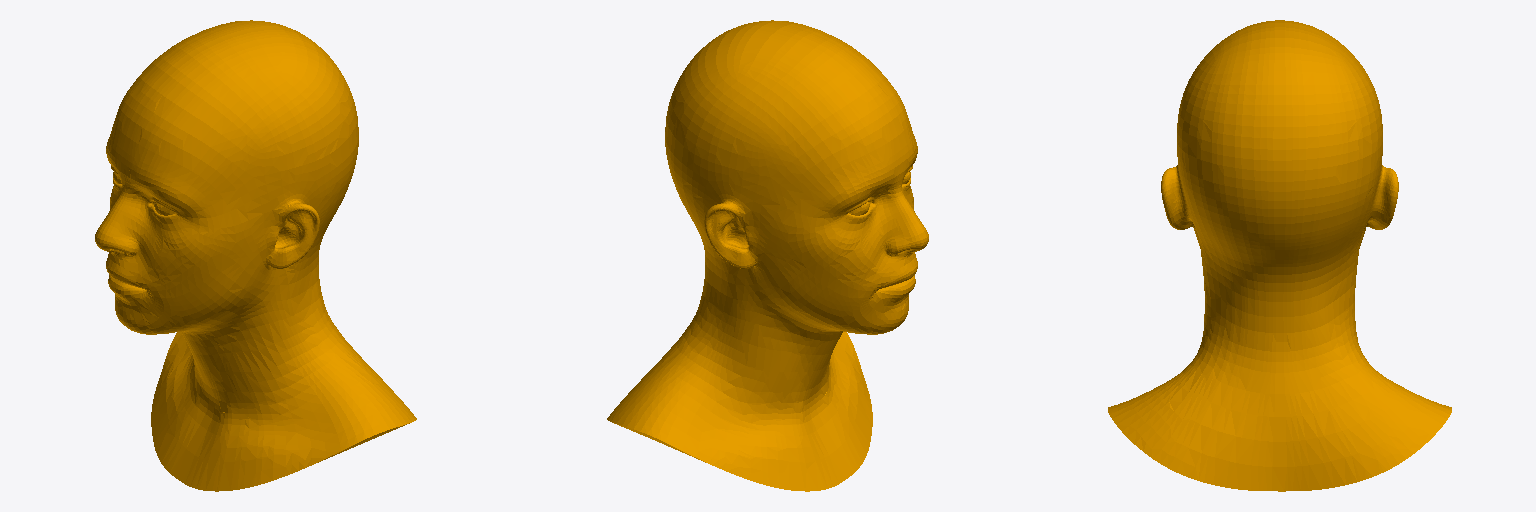
robot.urdf — lefteye:
<?xml version="1.0"?>
<robot name="lefteye">
  <link name="lefteye">
    <visual>
      <origin xyz="0.05 0.0 0.0" rpy= "0.0 0.0 3.141592653589793"/>
      <geometry>
        <mesh filename="lefteye.obj" scale="1 1 1"/>
      </geometry>
    </visual>
    <collision>
      <origin xyz="0.05 0.0 0.0" rpy= "0.0 0.0 3.141592653589793"/>
      <geometry>
        <mesh filename="lefteye.obj" scale="1 1 1"/>
      </geometry>
    </collision>
    <inertial>
      <mass value="0.0"/>
      <inertia ixx="0.0001" ixy="0.0" ixz="0.0" iyy="0.0001" iyz="0.0" izz="0.0001"/>
    </inertial>
  </link>
</robot>

--- Facts derived from the render (not from the file) ---
The picture shows the robot from 3 angles, left to right: view 1: azimuth 30°, elevation 25°; view 2: azimuth 150°, elevation 25°; view 3: azimuth 270°, elevation 25°; orthographic projection.
Model lefteye with 1 links and 0 joints (none), rooted at lefteye, posed every joint at zero.
Links seen in each view (by area): view 1: lefteye; view 2: lefteye; view 3: lefteye.
Boxes of the visible links, x1,y1,x2,y2 form: lefteye: (95, 20, 416, 491); lefteye: (607, 20, 928, 491); lefteye: (1108, 20, 1451, 491).
Bounding box of the posed robot: 0.2346 × 0.259 × 0.3582 m (x, y, z).
1 mesh visuals loaded from 1 distinct referenced files (1 OBJ).
